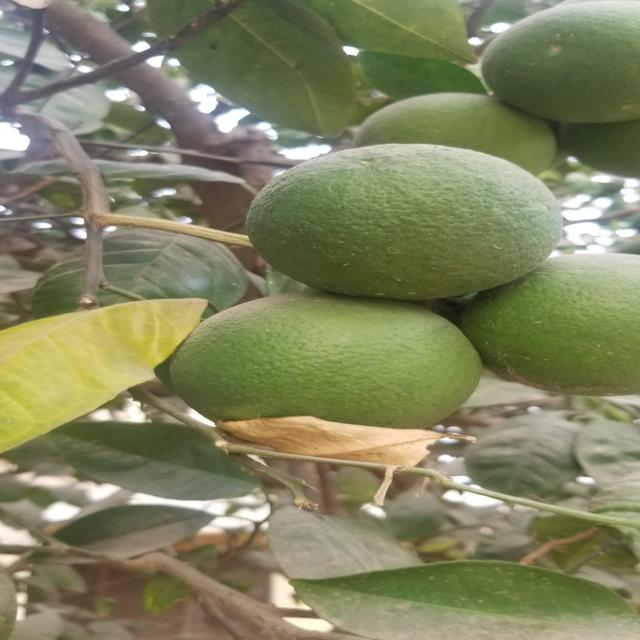Unripe: (219, 143, 571, 306), (160, 297, 496, 457), (467, 0, 640, 152), (490, 249, 640, 400)
